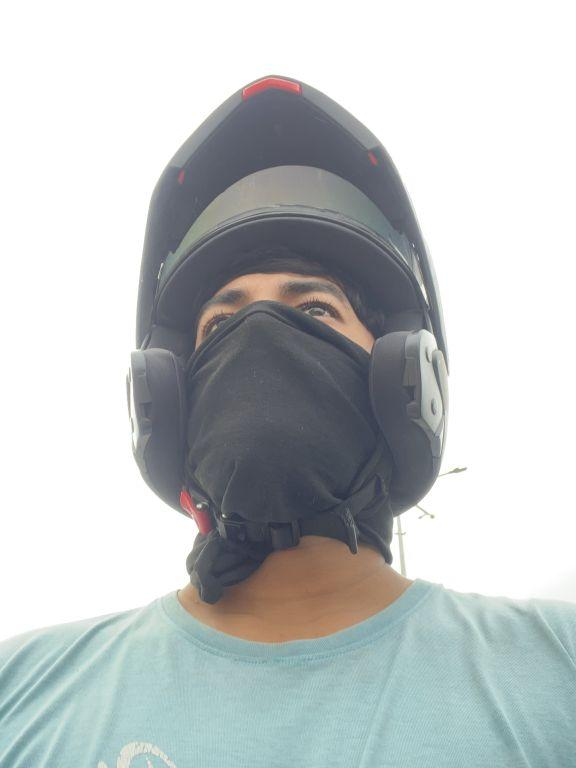helmet: (105, 49, 470, 582)
